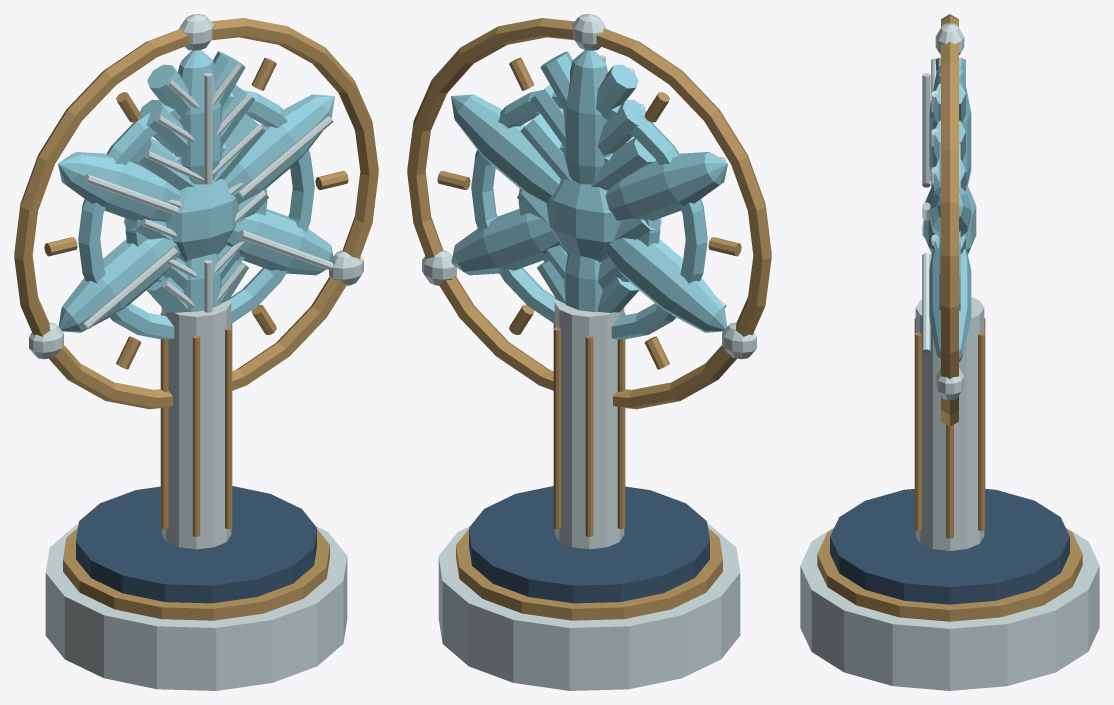
File: world13-frost-prisms.glb
The picture shows the model from 3 angles, left to right: view 1: azimuth 30°, elevation 25°; view 2: azimuth 150°, elevation 25°; view 3: azimuth 270°, elevation 25°; orthographic projection.
Parts seen in each view (by area): view 1: device-prism-signal, snow-plinth, outer-frame, inset-top, fluted-pillar, device.001-prism-signal, device.002-prism-signal, gold-footcourse, device-frost-ceramic, pillar-prism-frame, device.001-frost-ceramic, device.002-prism-frame (+1 smaller); view 2: device-prism-signal, snow-plinth, outer-frame, inset-top, device.001-prism-signal, fluted-pillar, device.002-prism-signal, gold-footcourse, pillar-prism-frame, device.002-prism-frame, ring-frost-ceramic; view 3: snow-plinth, inset-top, fluted-pillar, outer-frame, gold-footcourse, device-prism-signal, pillar-prism-frame, device-frost-ceramic, device.001-prism-signal, ring-frost-ceramic, device.002-prism-signal.
Boxes of the visible parts, x1=… form: device-prism-signal: x1=58, y1=50, x2=334, y2=332; snow-plinth: x1=45, y1=524, x2=347, y2=690; outer-frame: x1=14, y1=18, x2=378, y2=409; inset-top: x1=76, y1=486, x2=316, y2=603; fluted-pillar: x1=161, y1=299, x2=231, y2=549; device.001-prism-signal: x1=124, y1=51, x2=268, y2=312; device.002-prism-signal: x1=78, y1=90, x2=314, y2=339; gold-footcourse: x1=63, y1=528, x2=329, y2=620; device-frost-ceramic: x1=83, y1=73, x2=333, y2=328; pillar-prism-frame: x1=160, y1=312, x2=232, y2=536; device.001-frost-ceramic: x1=141, y1=62, x2=266, y2=307; device.002-prism-frame: x1=44, y1=57, x2=348, y2=369; device-prism-signal: x1=451, y1=50, x2=727, y2=332; snow-plinth: x1=438, y1=524, x2=740, y2=690; outer-frame: x1=407, y1=18, x2=771, y2=409; inset-top: x1=469, y1=486, x2=709, y2=603; device.001-prism-signal: x1=517, y1=51, x2=661, y2=312; fluted-pillar: x1=554, y1=299, x2=624, y2=549; device.002-prism-signal: x1=471, y1=90, x2=707, y2=339; gold-footcourse: x1=456, y1=528, x2=722, y2=620; pillar-prism-frame: x1=553, y1=312, x2=625, y2=536; device.002-prism-frame: x1=437, y1=57, x2=741, y2=369; ring-frost-ceramic: x1=422, y1=14, x2=756, y2=359; snow-plinth: x1=800, y1=527, x2=1099, y2=690; inset-top: x1=830, y1=489, x2=1069, y2=604; fluted-pillar: x1=915, y1=297, x2=984, y2=550; outer-frame: x1=941, y1=14, x2=958, y2=426; gold-footcourse: x1=817, y1=528, x2=1082, y2=621; device-prism-signal: x1=923, y1=65, x2=976, y2=361; pillar-prism-frame: x1=914, y1=318, x2=985, y2=538; device-frost-ceramic: x1=922, y1=73, x2=930, y2=354; device.001-prism-signal: x1=929, y1=57, x2=975, y2=253; ring-frost-ceramic: x1=935, y1=23, x2=964, y2=400; device.002-prism-signal: x1=930, y1=120, x2=960, y2=310.
Bounding box in the file's own units: 1.94 × 3.11 × 1.4.
